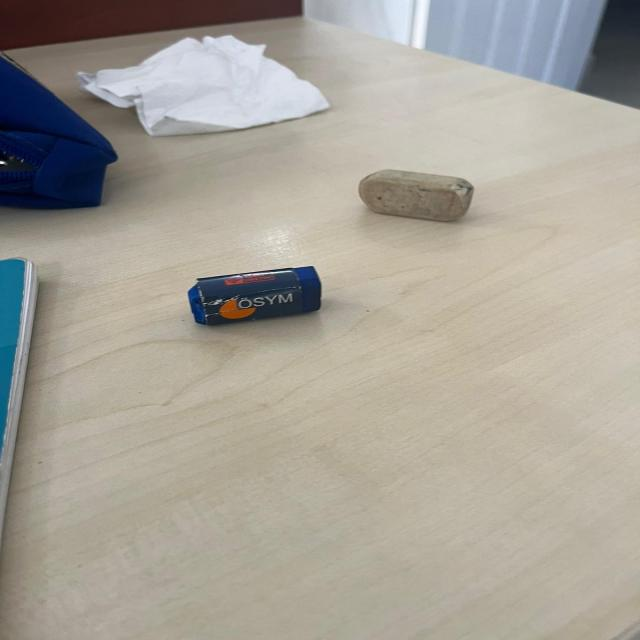eraser: (179, 263, 330, 324), (352, 165, 483, 228)
